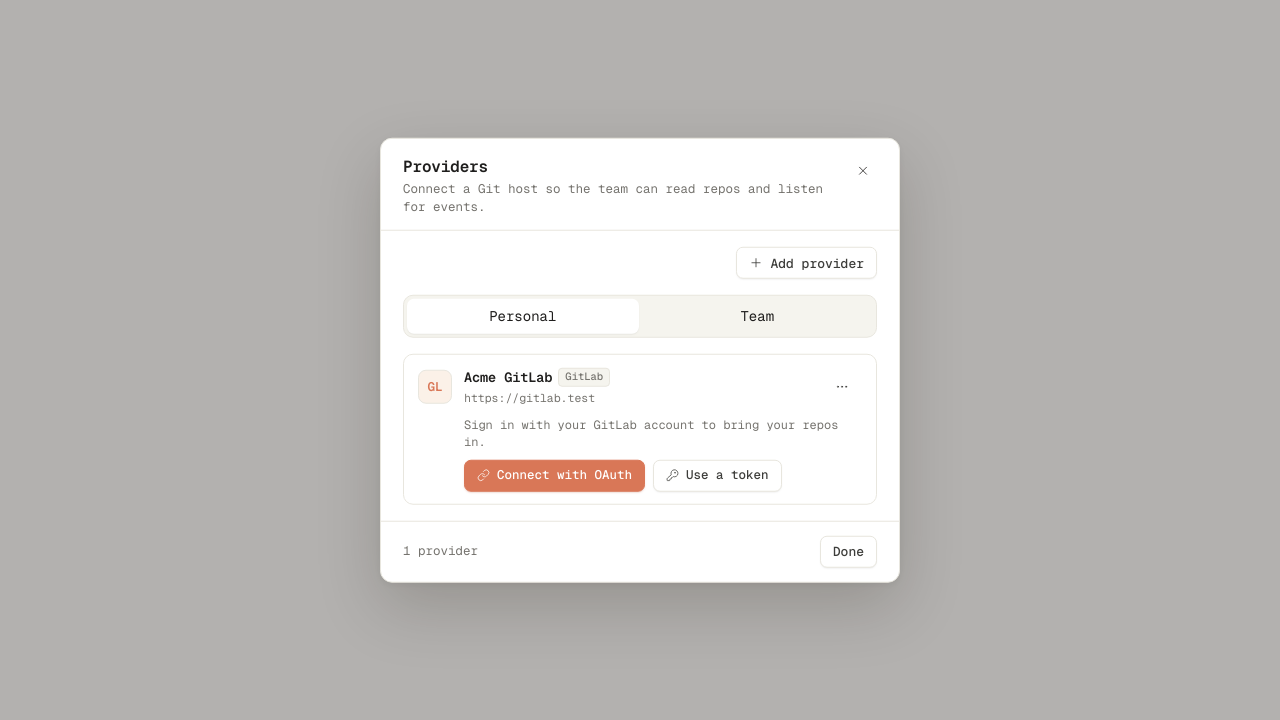
Test case: connect remote modal re-authorizing a credential in place › marks a team token the provider refused, beside the Replace token that brings it back
Click the tab "Team" at [757, 316], box [642, 299, 873, 334]
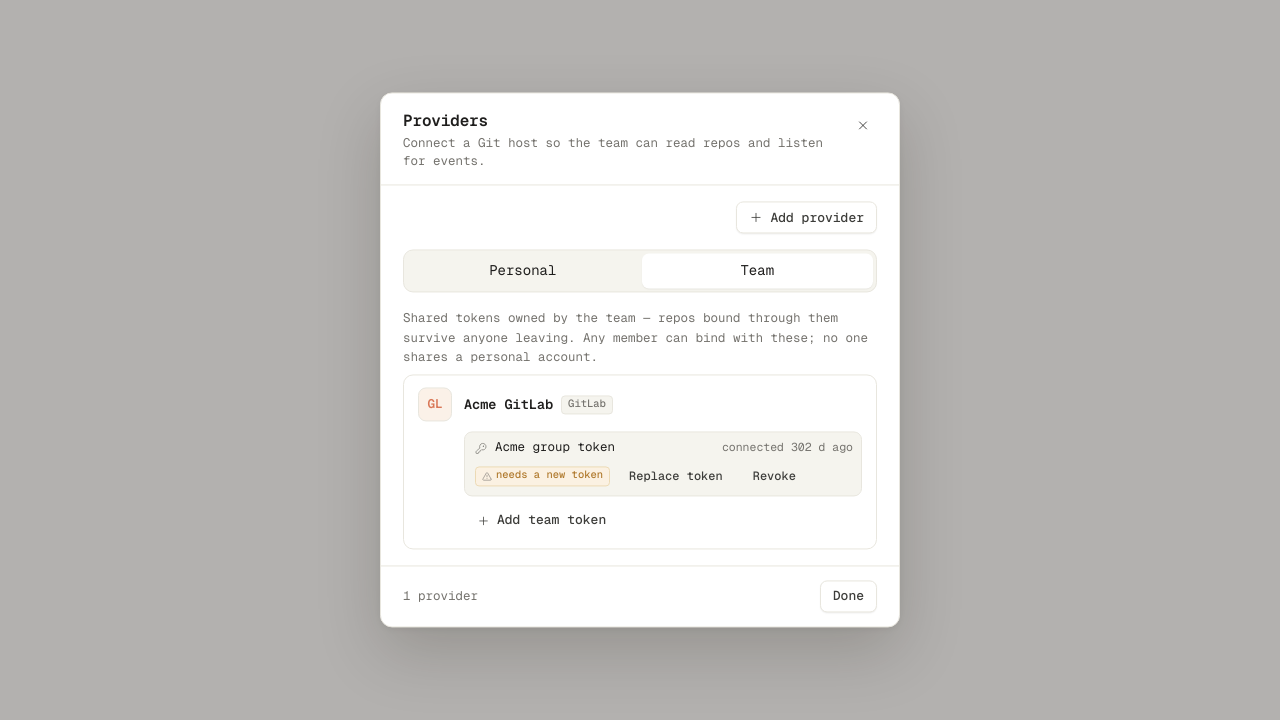
Now the text "needs a new token" is shown, box [475, 467, 610, 486]
Now the button "Replace token" is shown, box [618, 464, 734, 490]
